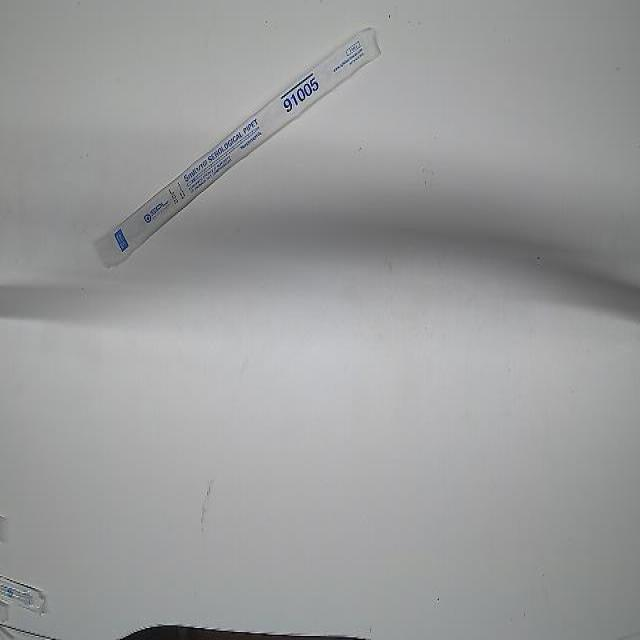Serelogical Pipet 5 mL - Sealed: (96, 24, 384, 273)
